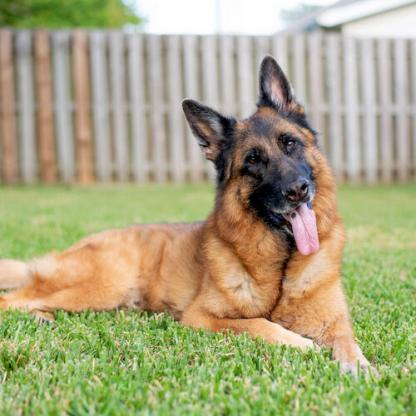dog: (0, 57, 363, 380)
